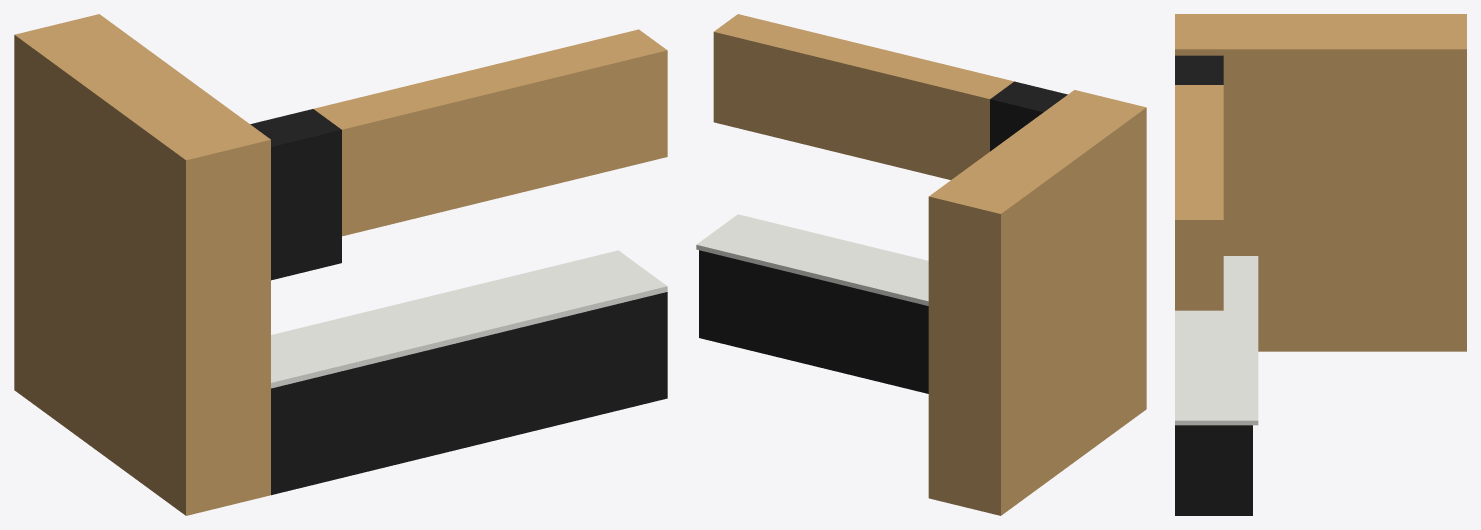
File: cuisine.dae
3 renders of one model, left to right at view 1: azimuth 30°, elevation 25°; view 2: azimuth 150°, elevation 25°; view 3: azimuth 270°, elevation 25°, orthographic. The views are drawn at different scales.
Visible parts, largest first — view 1: C1, C3, C2, Plan, H2, H1, B1, H3, H0, C4, B3, B2 (+1 smaller); view 2: C4, C3, C2, C1, H2, H1, Plan, H3, B2, B4, B3, H0 (+1 smaller); view 3: C2, C3, C4, Plan, C1, B4, H3, H1, H2, H0.
Part boxes in pixels (box(x1,y1,x2,y2)): C1: box(137, 104, 270, 515); C3: box(39, 32, 172, 443); C2: box(88, 68, 221, 479); Plan: box(271, 250, 667, 388); H2: box(427, 53, 568, 208); H1: box(313, 81, 454, 236); B1: box(271, 354, 412, 495); H3: box(540, 29, 667, 180); H0: box(250, 109, 341, 280); C4: box(14, 14, 123, 407); B3: box(497, 312, 582, 439); B2: box(412, 333, 497, 460); C4: box(928, 181, 1021, 515); C3: box(950, 151, 1063, 500); C2: box(991, 120, 1104, 469); C1: box(1033, 90, 1146, 439); H2: box(797, 34, 917, 166); H1: box(894, 58, 1013, 179); Plan: box(696, 214, 928, 305); H3: box(713, 14, 821, 142); B2: box(843, 285, 915, 390); B4: box(699, 250, 771, 355); B3: box(771, 268, 843, 372); H0: box(990, 81, 1067, 151); C2: box(1258, 14, 1341, 351); C3: box(1342, 14, 1425, 351); C4: box(1425, 14, 1466, 351); Plan: box(1175, 256, 1258, 425); C1: box(1175, 14, 1258, 255); B4: box(1175, 425, 1252, 515); H3: box(1175, 179, 1223, 310); H1: box(1175, 85, 1223, 131); H2: box(1175, 132, 1223, 178); H0: box(1175, 55, 1223, 84).
Size of the model in its own units: 3.4 by 2.1 by 2.4.
